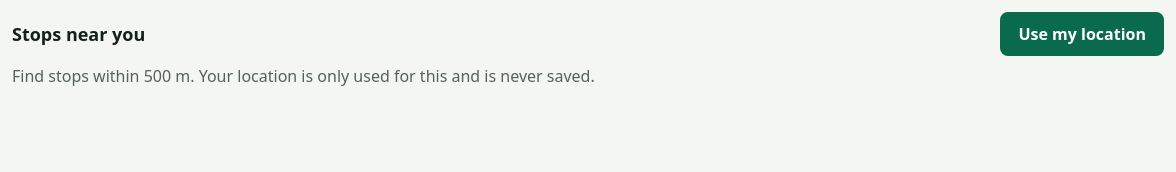
it: NearbyStops › explains browser error 2 and points to search
The width and height of the screenshot is (1176, 172).
Click the button "Use my location": (1082, 34) [1000,12,1164,56]
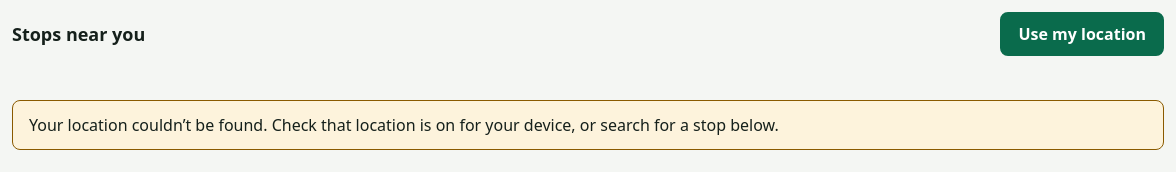
Expected: the 2nd message shows "search for a stop below", [29,114,779,136]
